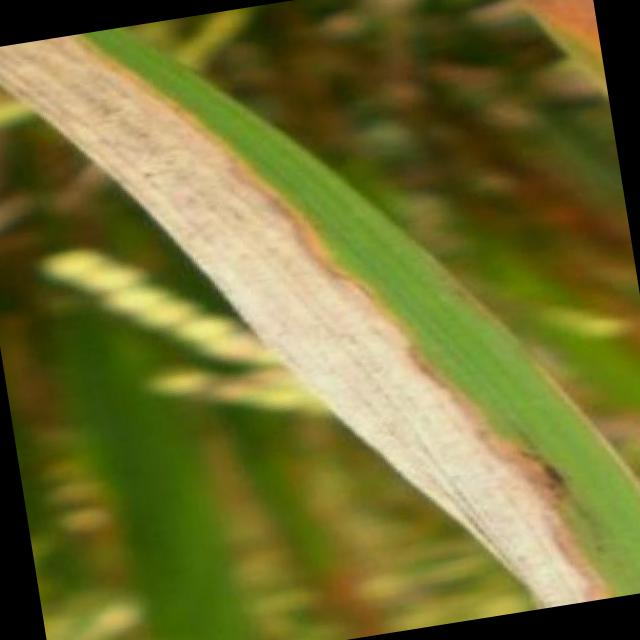Rice_Bacterial_Blight: (311, 192, 640, 633)
